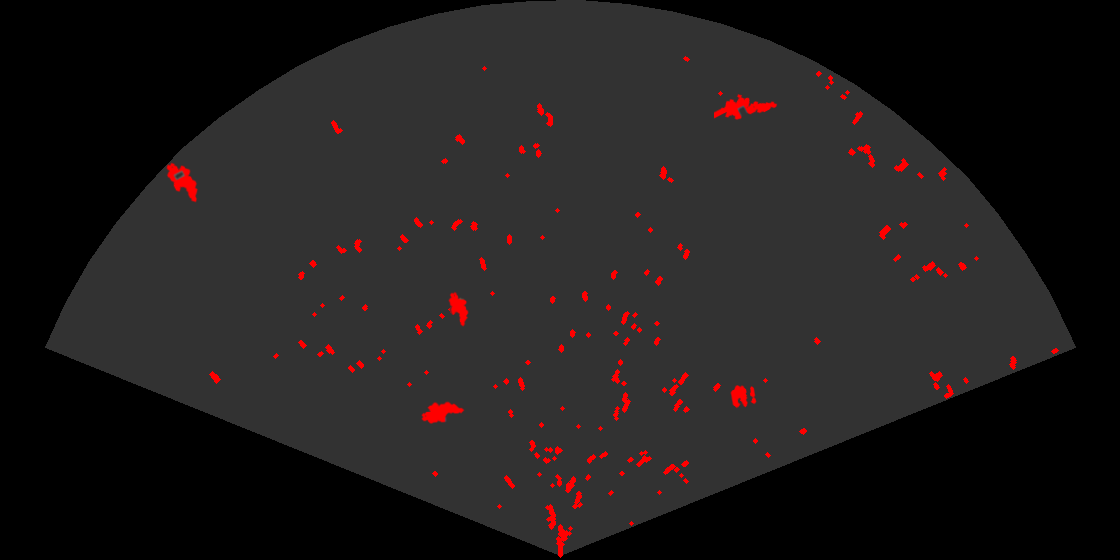AUV: (165, 161, 200, 204), (420, 400, 466, 425), (447, 290, 470, 328)
ball: (729, 384, 758, 410)
frogman: (714, 92, 779, 121)
